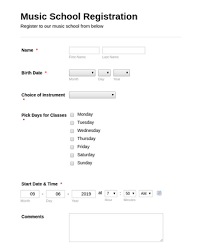DropDown: (69, 91, 117, 99), (69, 68, 96, 80), (113, 67, 131, 78), (98, 68, 111, 78)
RadioButton: (68, 144, 76, 152), (68, 153, 77, 160), (69, 111, 76, 119), (68, 136, 75, 143), (69, 120, 75, 128), (69, 127, 75, 135), (70, 160, 75, 167)
TextBox: (67, 211, 170, 245), (68, 45, 102, 57)
